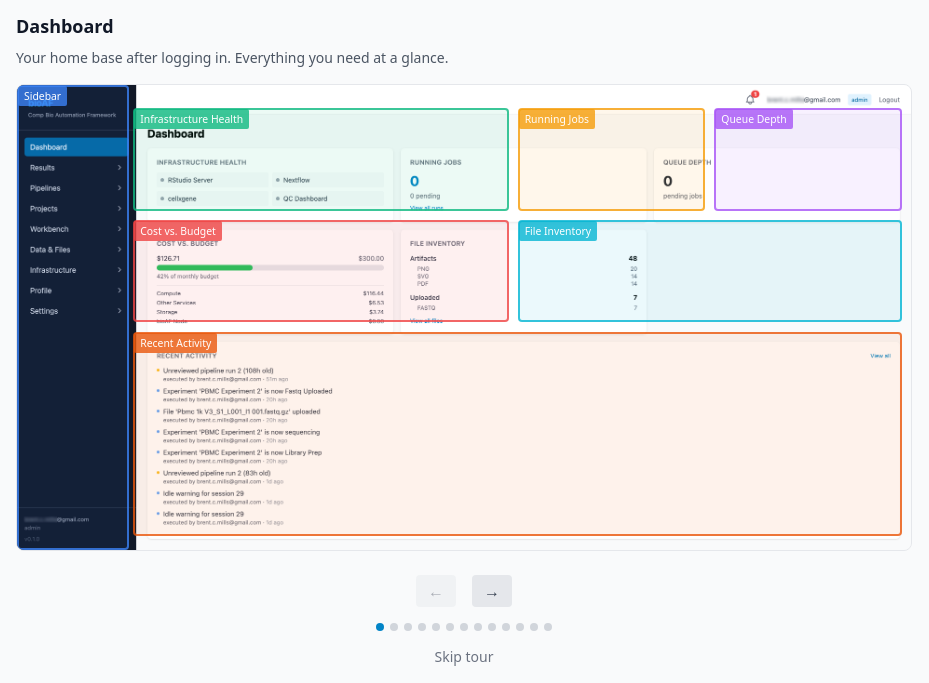
GettingStarted › navigates forward and backward with buttons
Step 1. Click the button named "Next slide" → (492, 591), box [472,575,512,607]
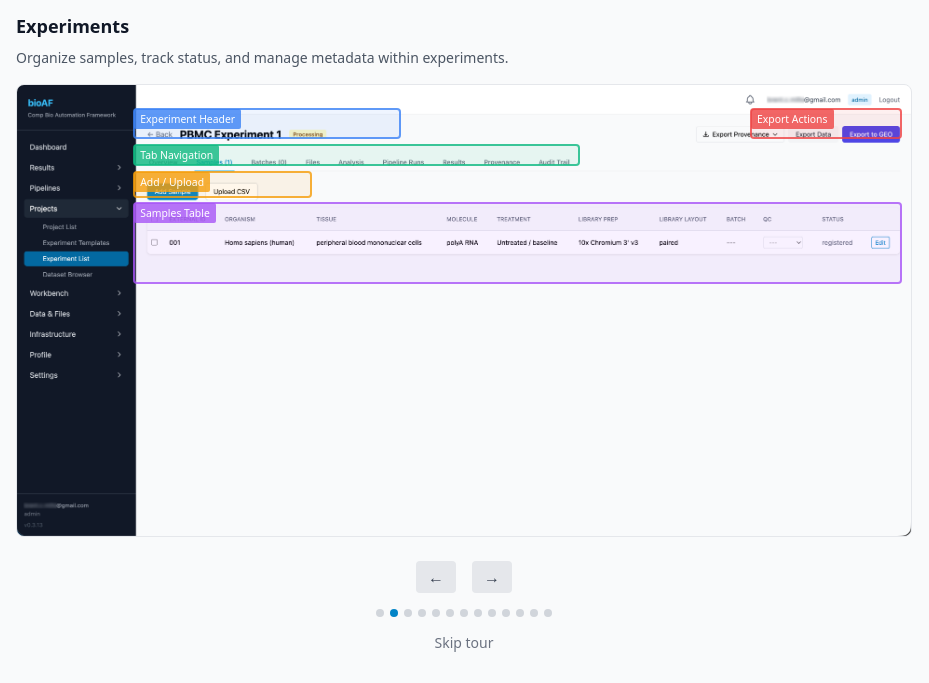
Now the heading "Experiments" is shown, box [16,14,129,38]
Step 2. Click the button named "Previous slide" → (436, 577), box [416,561,456,593]
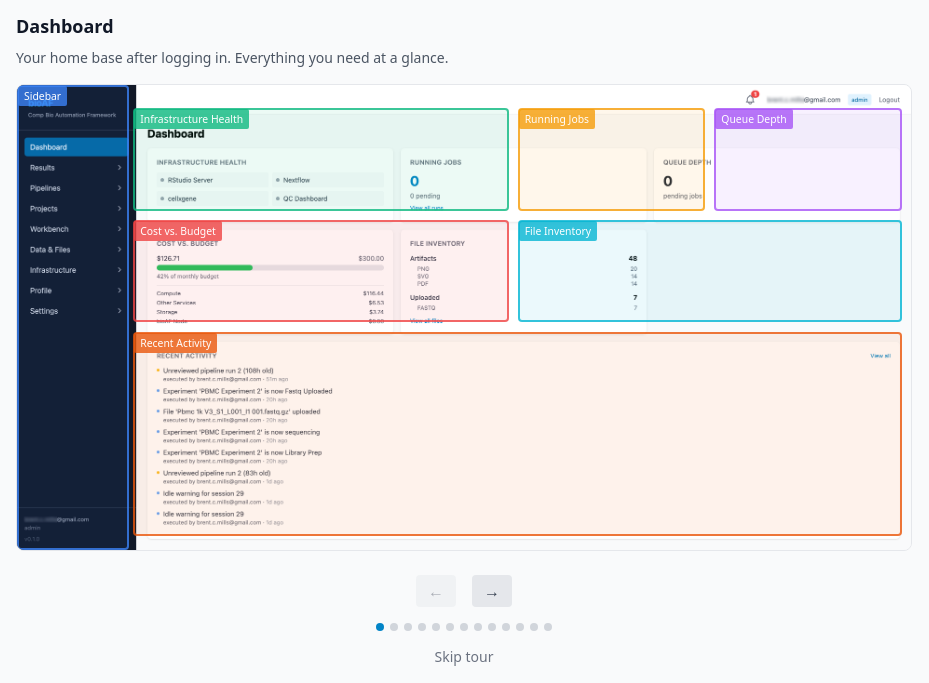
Now the heading "Dashboard" is shown, box [16,14,114,38]
